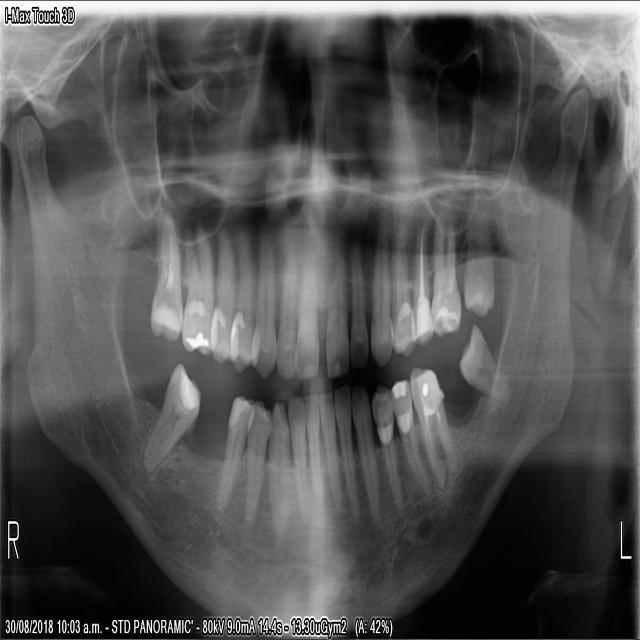LCD: (353, 388, 381, 524)
LCU: (370, 239, 393, 363)
LID: (336, 379, 360, 522), (319, 387, 341, 508)
LIU: (325, 233, 350, 378), (348, 240, 368, 368)
LMD: (410, 359, 461, 485), (454, 320, 497, 393)
LMU: (430, 202, 462, 338), (462, 197, 496, 317)
LPMD: (390, 372, 429, 498), (373, 383, 405, 505)
LPMU: (392, 233, 415, 357), (412, 222, 434, 343)
RCD: (267, 397, 291, 543)
RCU: (252, 225, 277, 385)
RID: (303, 388, 329, 515), (287, 394, 310, 523)
RIU: (295, 227, 319, 383), (276, 227, 299, 379)
RMD: (141, 358, 200, 475)
RMU: (146, 207, 183, 342), (181, 217, 213, 360)
RPMD: (215, 393, 251, 512), (244, 400, 271, 525)
RPMU: (230, 225, 257, 379), (212, 223, 237, 368)
